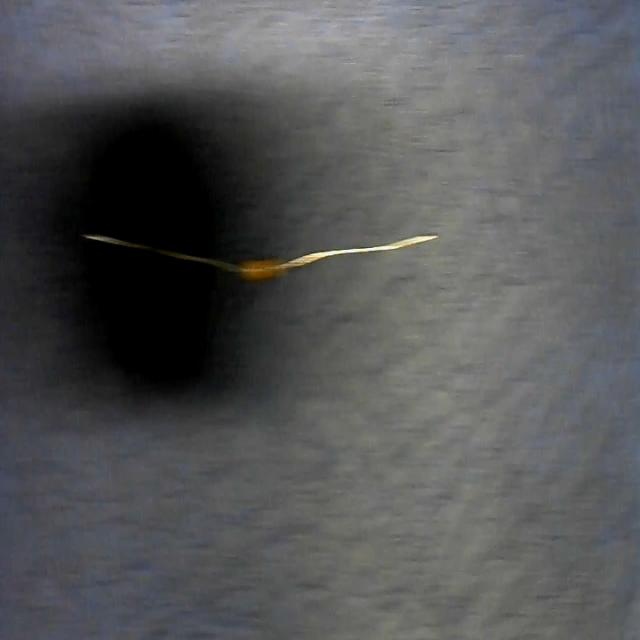resistor: (84, 221, 436, 281)
